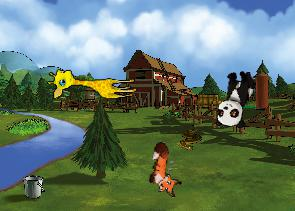fox: (144, 141, 188, 198)
giraffe: (47, 67, 137, 99)
panda: (213, 66, 257, 131)
